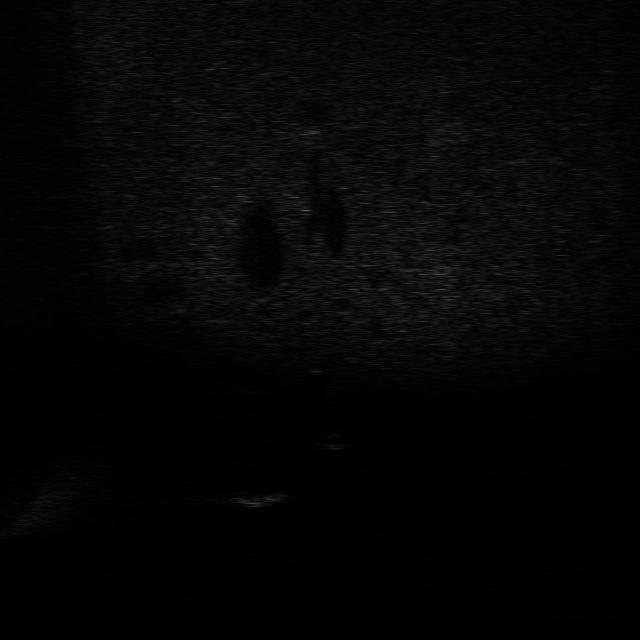ball: (314, 430, 350, 452)
human body: (296, 349, 344, 404)
square cage: (221, 486, 294, 510)
